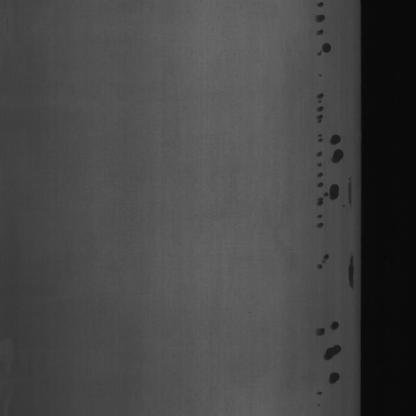oil_spot: (315, 7, 330, 288), (310, 306, 344, 391), (325, 126, 349, 215), (343, 244, 357, 292)
